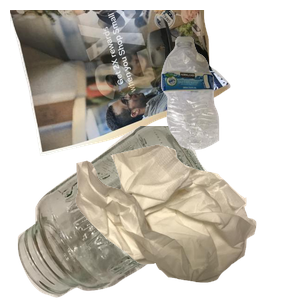glass: (15, 126, 229, 300)
paper: (10, 10, 233, 158)
plastic: (159, 34, 300, 176)
trash: (73, 142, 300, 300)
